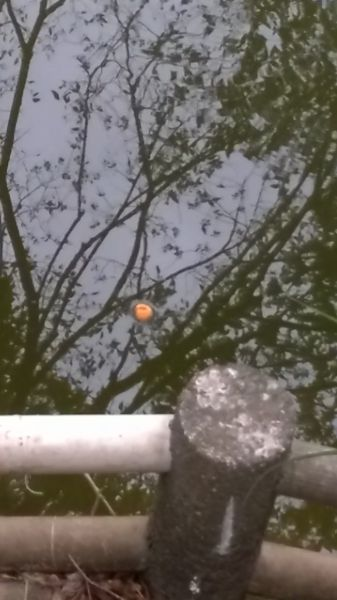eggs: (132, 301, 158, 324)
